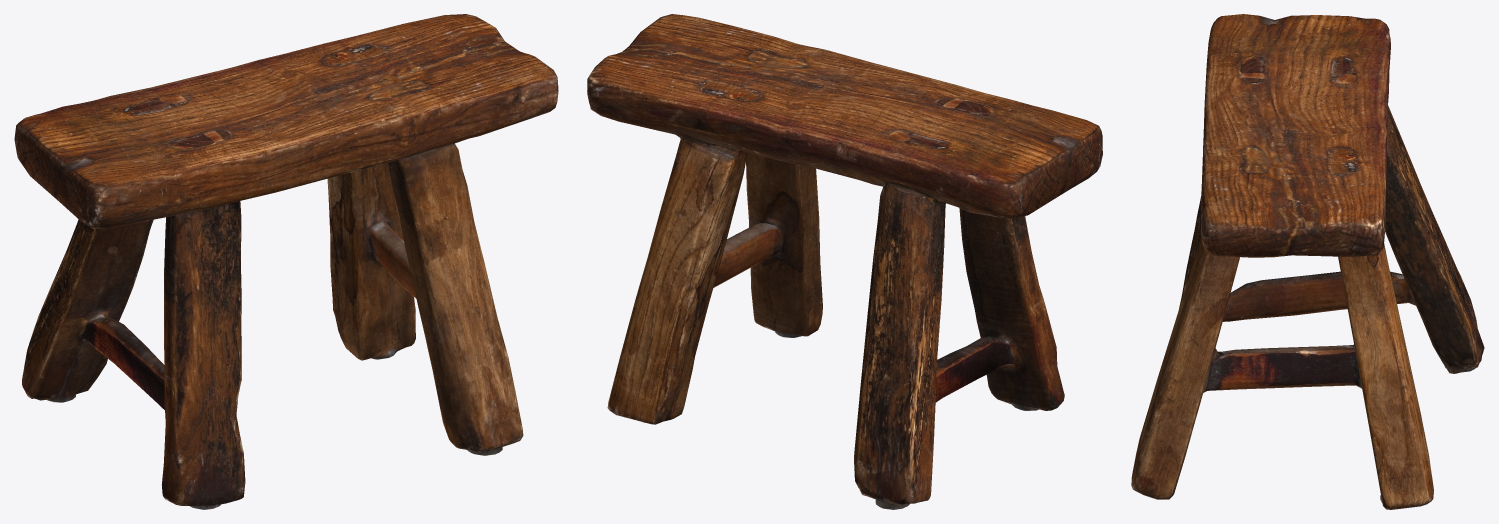
File: wooden_stool_02.fbx
The picture shows the model from 3 angles, left to right: view 1: azimuth 30°, elevation 25°; view 2: azimuth 150°, elevation 25°; view 3: azimuth 270°, elevation 25°; orthographic projection. The views are drawn at different scales.
Visible parts, largest first — view 1: wooden_stool_02_LOD0; view 2: wooden_stool_02_LOD0; view 3: wooden_stool_02_LOD0.
Part boxes in pixels (bbox=[...]): wooden_stool_02_LOD0: bbox=[14, 14, 558, 509]; wooden_stool_02_LOD0: bbox=[587, 14, 1102, 509]; wooden_stool_02_LOD0: bbox=[1131, 14, 1484, 509].
Size of what is drawn, in the model's own units: 26.53 by 18.2 by 18.33.
Materials: 1 (1 with a texture image).
